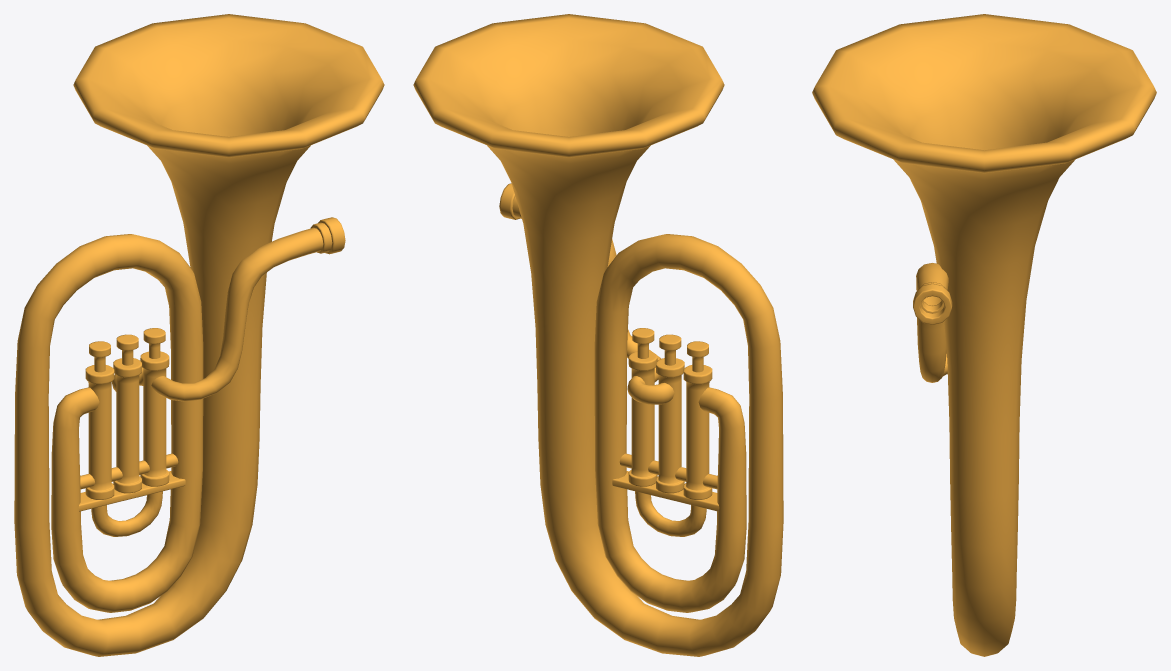
File: tuba.fbx
3 renders of one model, left to right at view 1: azimuth 30°, elevation 25°; view 2: azimuth 150°, elevation 25°; view 3: azimuth 270°, elevation 25°, orthographic. The views are drawn at different scales.
Parts seen in each view (by area): view 1: Line004; view 2: Line004; view 3: Line004.
Boxes of the visible parts, x1,y1,x2,y2 form: Line004: (14,14,384,656); Line004: (413,14,783,656); Line004: (812,14,1156,656).
Size of the model in its own units: 62.46 by 94.1 by 48.3.
